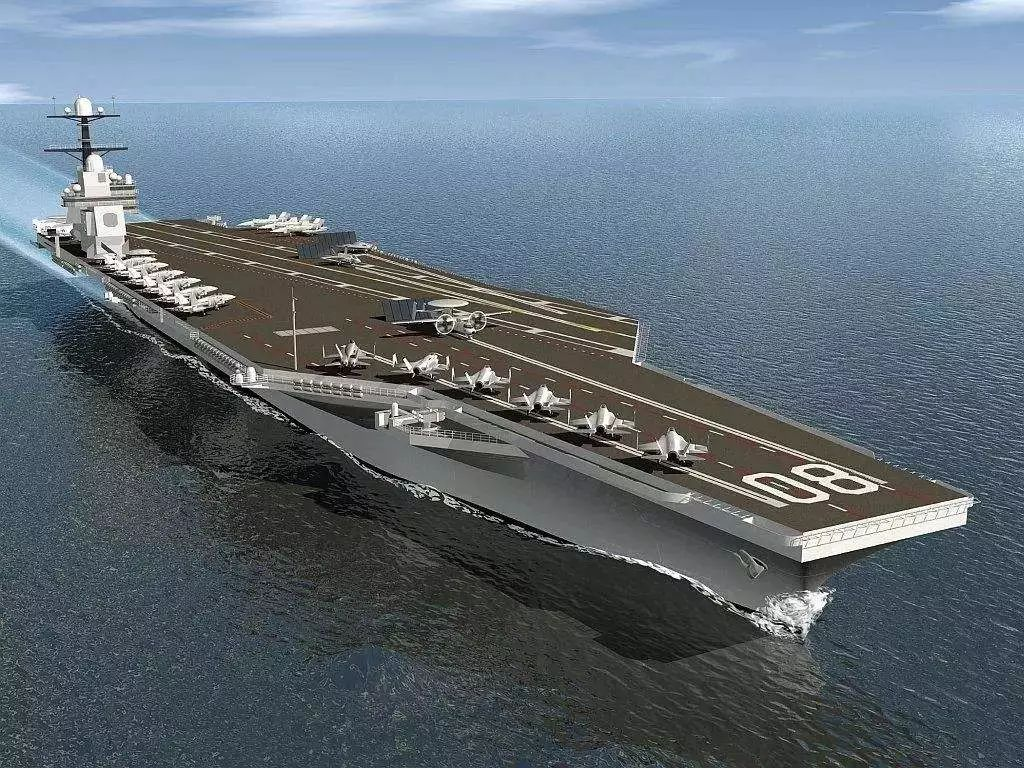warship: (35, 90, 978, 621)
